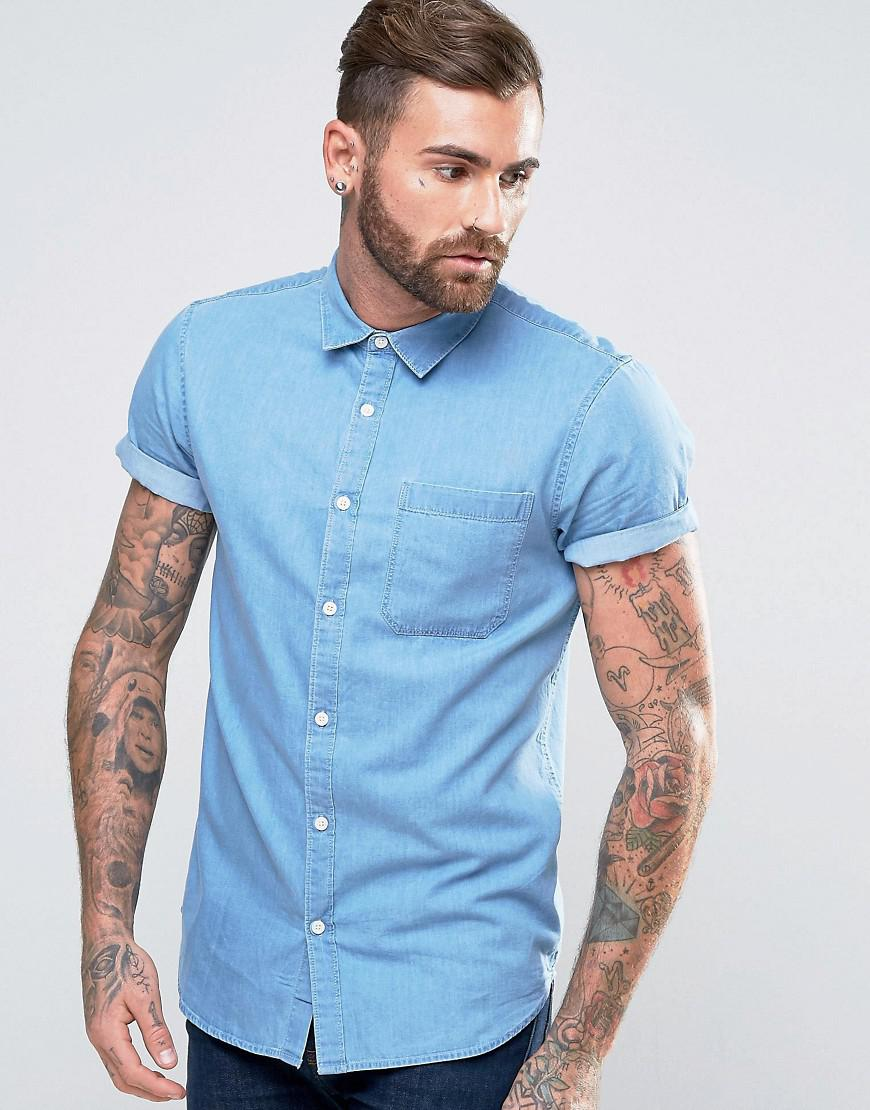teeshirt: (96, 259, 700, 1035)
